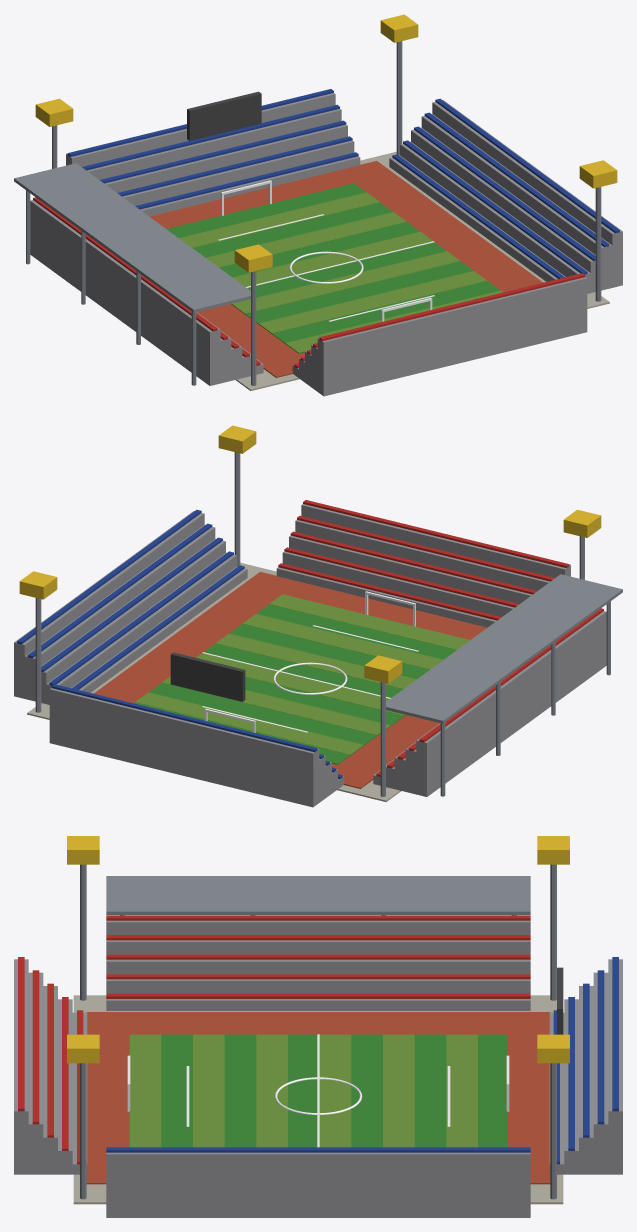
Rendered from stadyum.glb.
3 views of the same model, one above another, from view 1: azimuth 30°, elevation 25°; view 2: azimuth 150°, elevation 25°; view 3: azimuth 270°, elevation 25° (orthographic). The views are drawn at different scales.
Parts seen in each view (by area): view 1: Bant; view 2: Bant; view 3: Bant.
Boxes of the visible parts, bbox=[...] form: Bant: bbox=[14, 14, 622, 396]; Bant: bbox=[14, 425, 622, 807]; Bant: bbox=[14, 836, 622, 1217].
Bounding box in the file's own units: 0.9611 × 0.2869 × 1.
